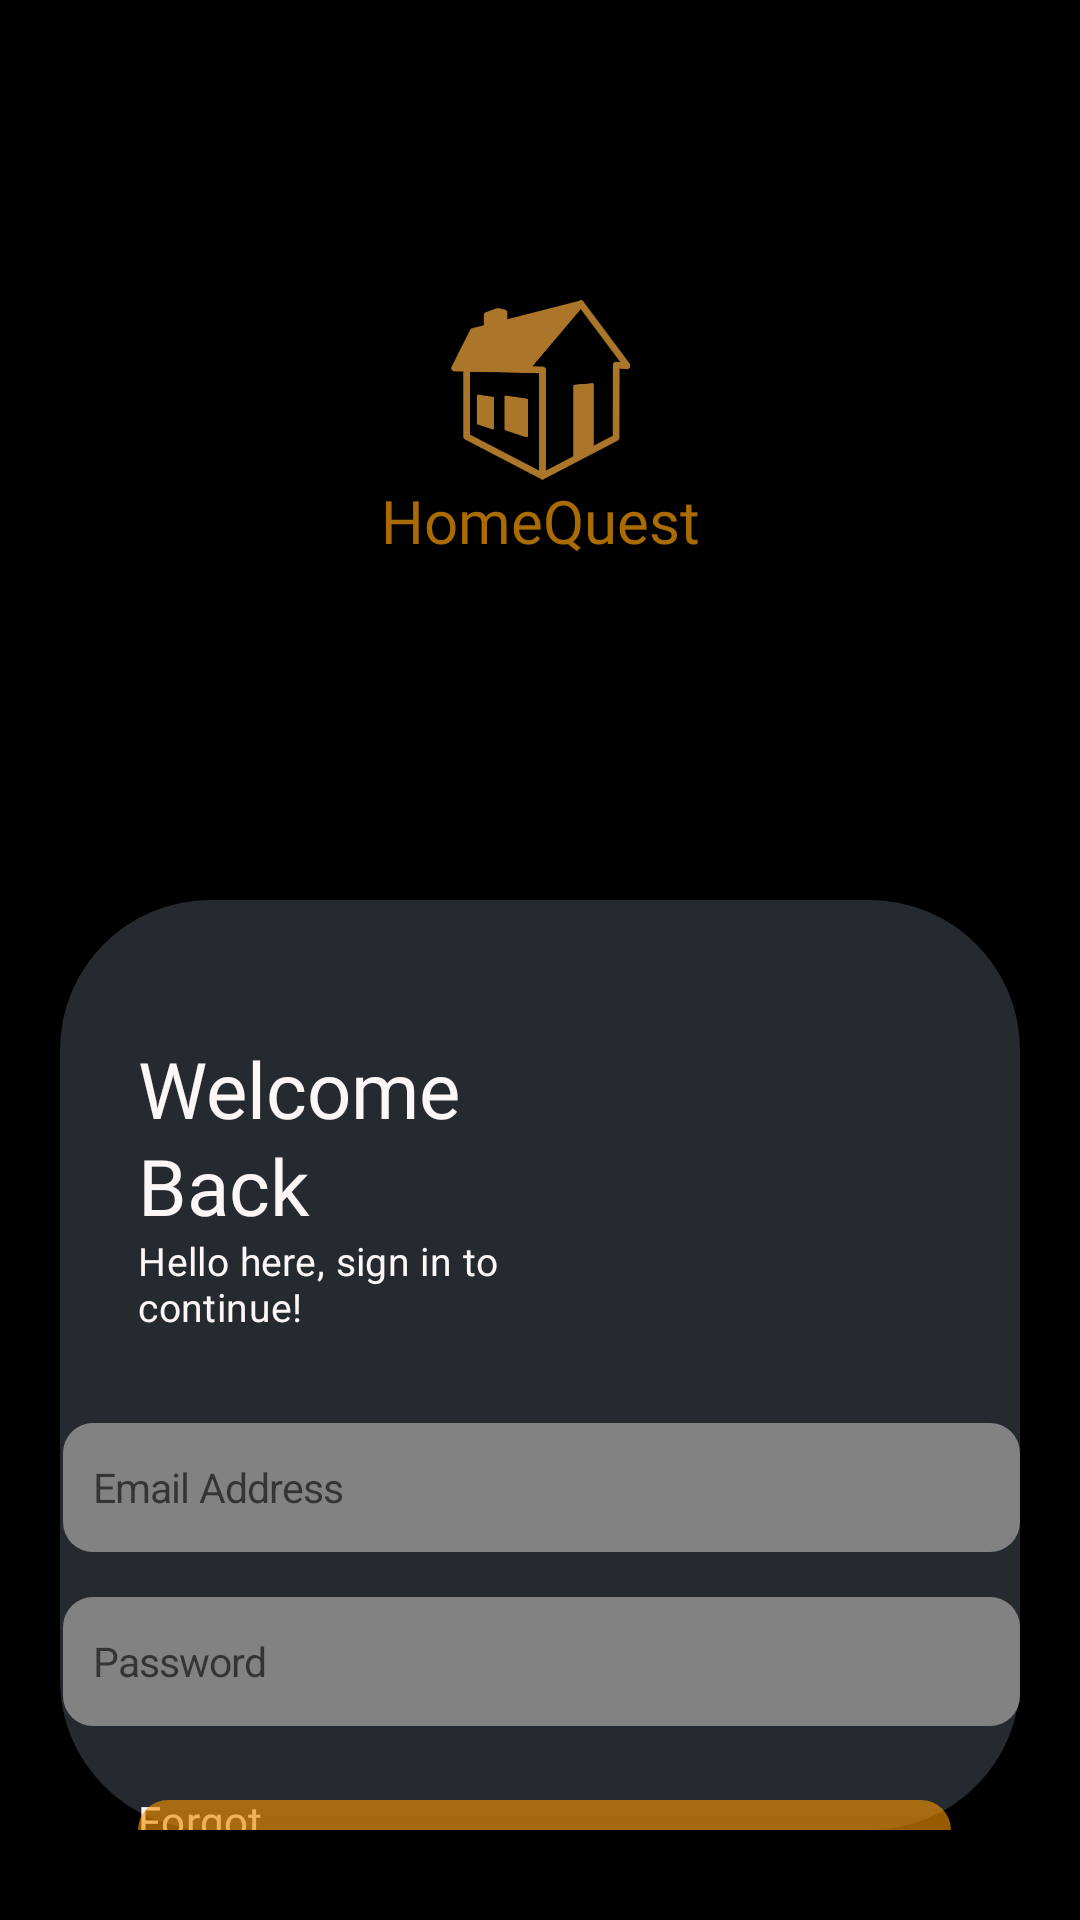

Where to tap for icons on this 1080 x 1920 app screen, as point (x, y):
house group: point (540, 390)
